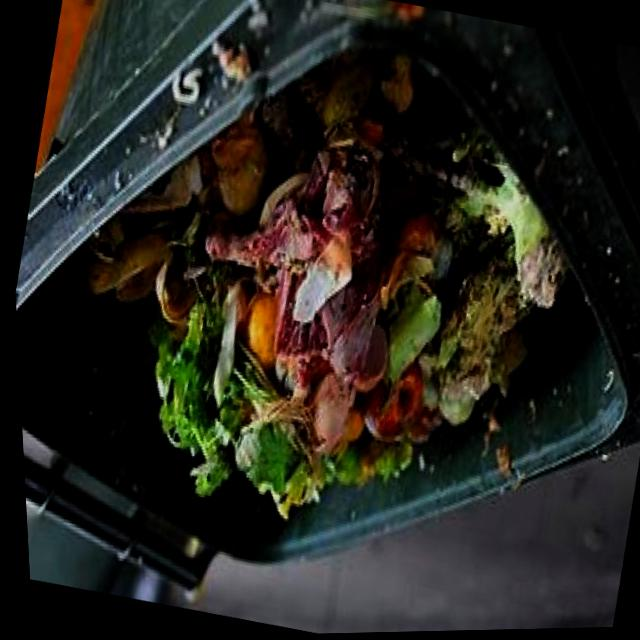Garbage: (79, 51, 562, 520)
Plastic_Container: (151, 252, 192, 323)
